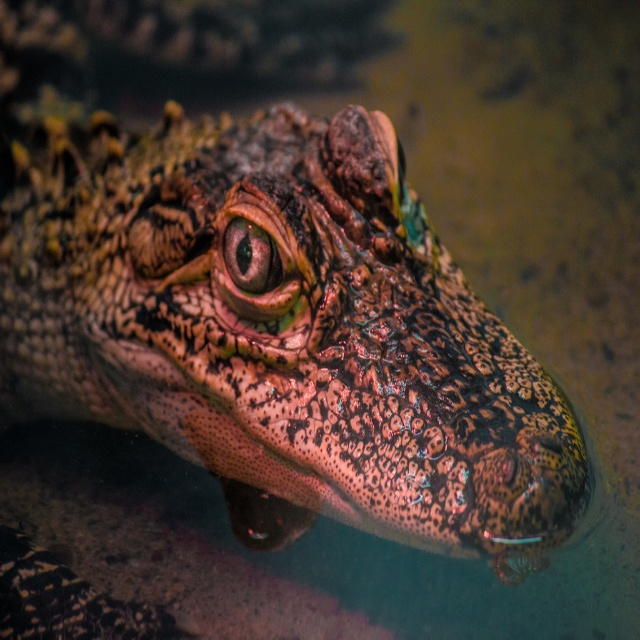Crocodile: (0, 55, 596, 581)
